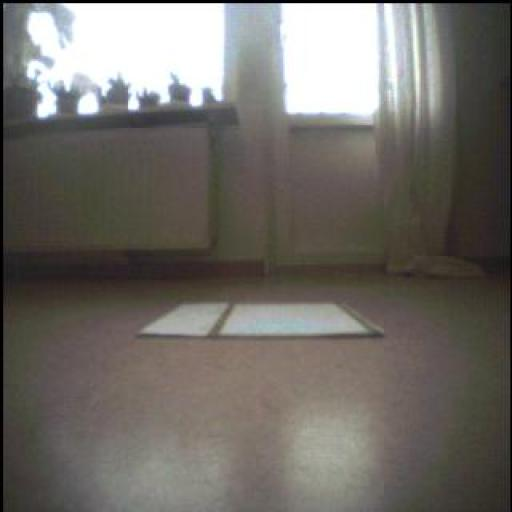Pad: (133, 299, 395, 331)
